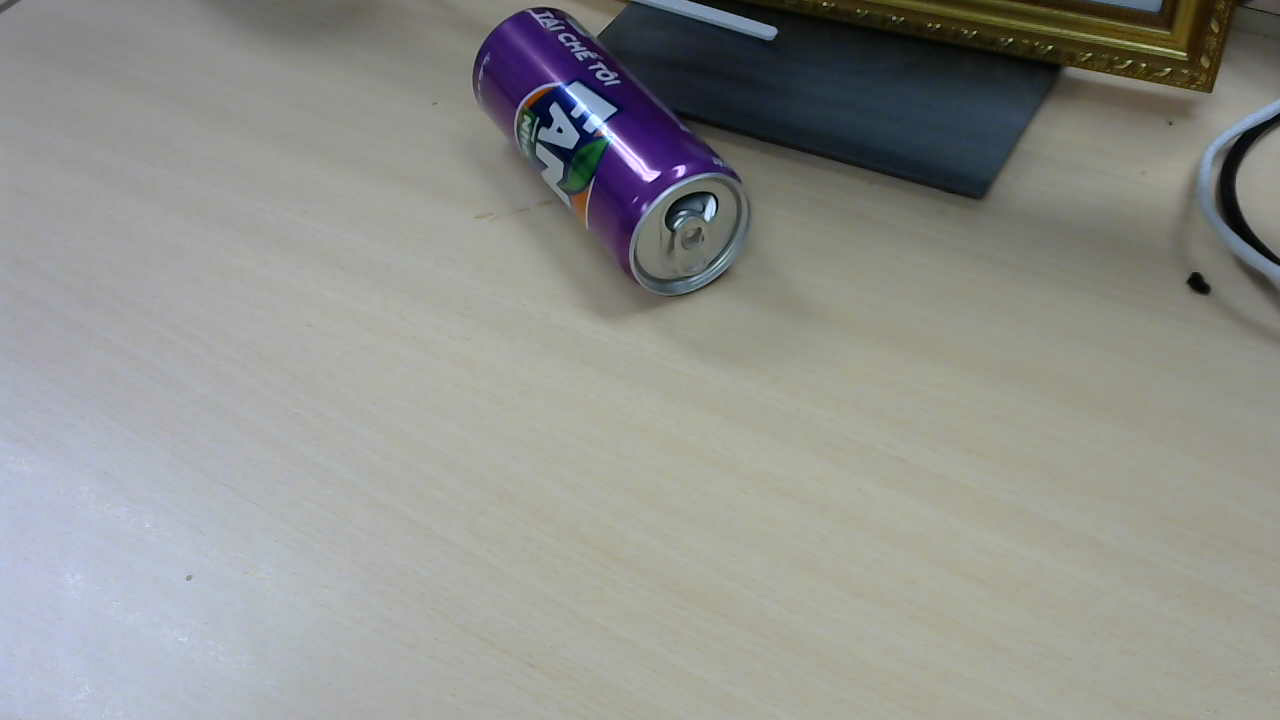Fanta: (474, 10, 757, 303)
